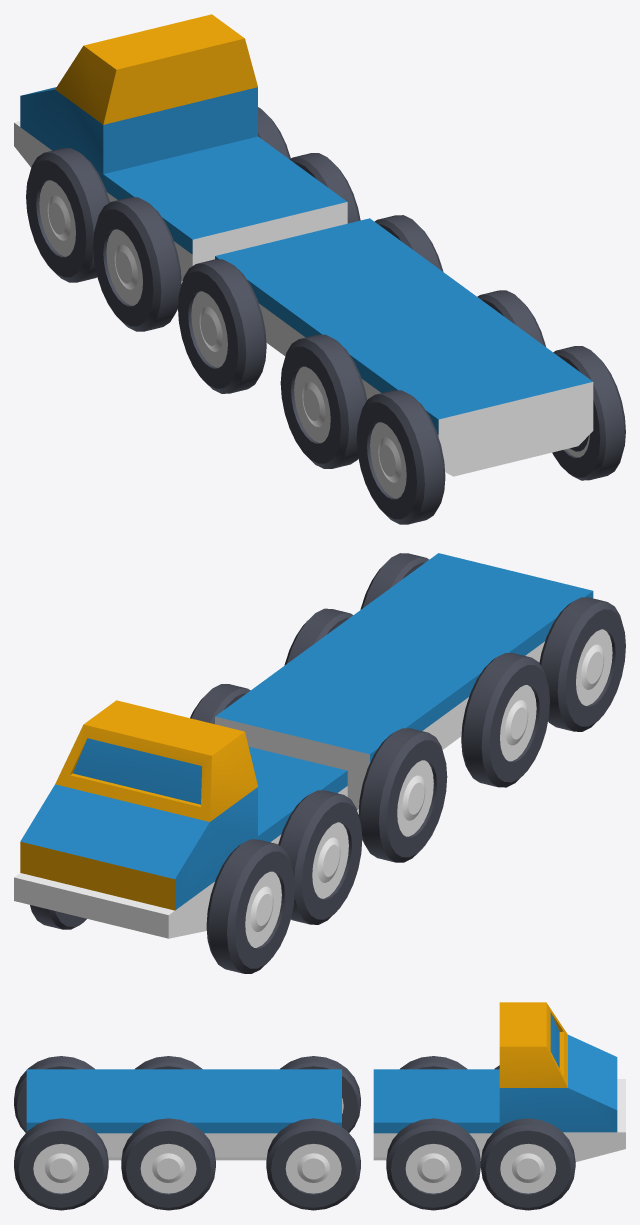
File: truck.fbx
3 views of the same model, one above another, from view 1: azimuth 30°, elevation 25°; view 2: azimuth 150°, elevation 25°; view 3: azimuth 270°, elevation 25° (orthographic). The views are drawn at different scales.
Parts seen in each view (by area): view 1: ship_hull_2, trunk_defaultHigh_0, ship_hull_1, wheel_large_12, wheel_large_4, wheel_large_8, wheel_large_11, wheel_large_5, wheel_large_10, wheel_large_7, wheel_large_9, wheel_large_3 (+1 smaller); view 2: trunk_defaultHigh_0, ship_hull_2, wheel_large_5, wheel_large_11, wheel_large_4, wheel_large_12, wheel_large_8, ship_hull_1, wheel_large_10, wheel_large_9, wheel_large_3, wheel_large_6; view 3: ship_hull_2, trunk_defaultHigh_0, ship_hull_1, wheel_large_7, wheel_large_9, wheel_large_3, wheel_large_10, wheel_large_6, wheel_large_4, wheel_large_12, wheel_large_8, wheel_large_11.
Part boxes in pixels (<box>): ship_hull_2: <box>215,218,593,476</box>; trunk_defaultHigh_0: <box>14,14,257,182</box>; ship_hull_1: <box>103,136,347,280</box>; wheel_large_12: <box>356,390,445,524</box>; wheel_large_4: <box>178,259,266,393</box>; wheel_large_8: <box>93,197,181,331</box>; wheel_large_11: <box>280,334,366,468</box>; wheel_large_5: <box>26,148,109,282</box>; wheel_large_10: <box>552,346,625,480</box>; wheel_large_7: <box>290,153,360,223</box>; wheel_large_9: <box>477,290,545,346</box>; wheel_large_3: <box>374,215,443,271</box>; trunk_defaultHigh_0: <box>14,700,257,938</box>; ship_hull_2: <box>215,553,593,809</box>; wheel_large_5: <box>206,839,295,973</box>; wheel_large_11: <box>461,653,549,787</box>; wheel_large_4: <box>358,728,447,862</box>; wheel_large_12: <box>539,597,625,731</box>; wheel_large_8: <box>278,790,362,924</box>; ship_hull_1: <box>248,746,347,844</box>; wheel_large_10: <box>360,553,429,609</box>; wheel_large_9: <box>284,608,352,665</box>; wheel_large_3: <box>190,684,250,724</box>; wheel_large_6: <box>30,905,86,929</box>; ship_hull_2: <box>26,1069,341,1160</box>; trunk_defaultHigh_0: <box>499,1002,625,1161</box>; ship_hull_1: <box>373,1069,499,1160</box>; wheel_large_7: <box>386,1118,480,1210</box>; wheel_large_9: <box>121,1118,215,1210</box>; wheel_large_3: <box>266,1118,360,1210</box>; wheel_large_10: <box>14,1118,108,1210</box>; wheel_large_6: <box>481,1118,575,1210</box>; wheel_large_4: <box>280,1056,360,1132</box>; wheel_large_12: <box>14,1056,94,1132</box>; wheel_large_8: <box>400,1056,467,1069</box>; wheel_large_11: <box>135,1056,202,1069</box>.
Size of the model in its own units: 27 by 26.5 by 97.
